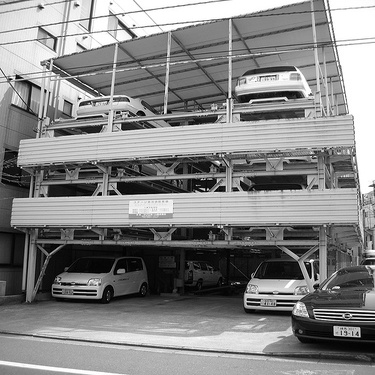car: (283, 255, 375, 355), (206, 245, 319, 321), (38, 240, 154, 308), (64, 76, 173, 128), (220, 56, 320, 103), (158, 255, 227, 288)
